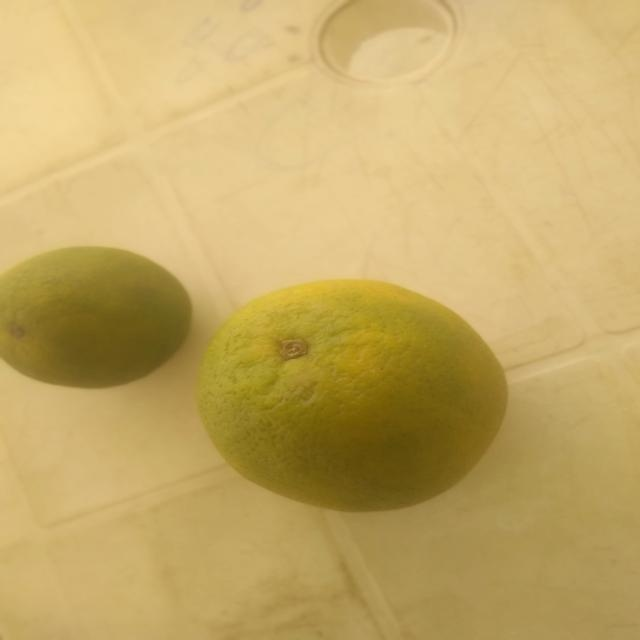agrume: (191, 259, 520, 525), (0, 237, 201, 401)
